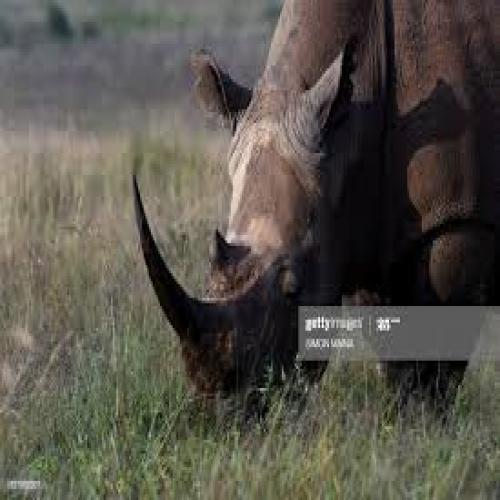rhino-endangered: (133, 2, 500, 416)
